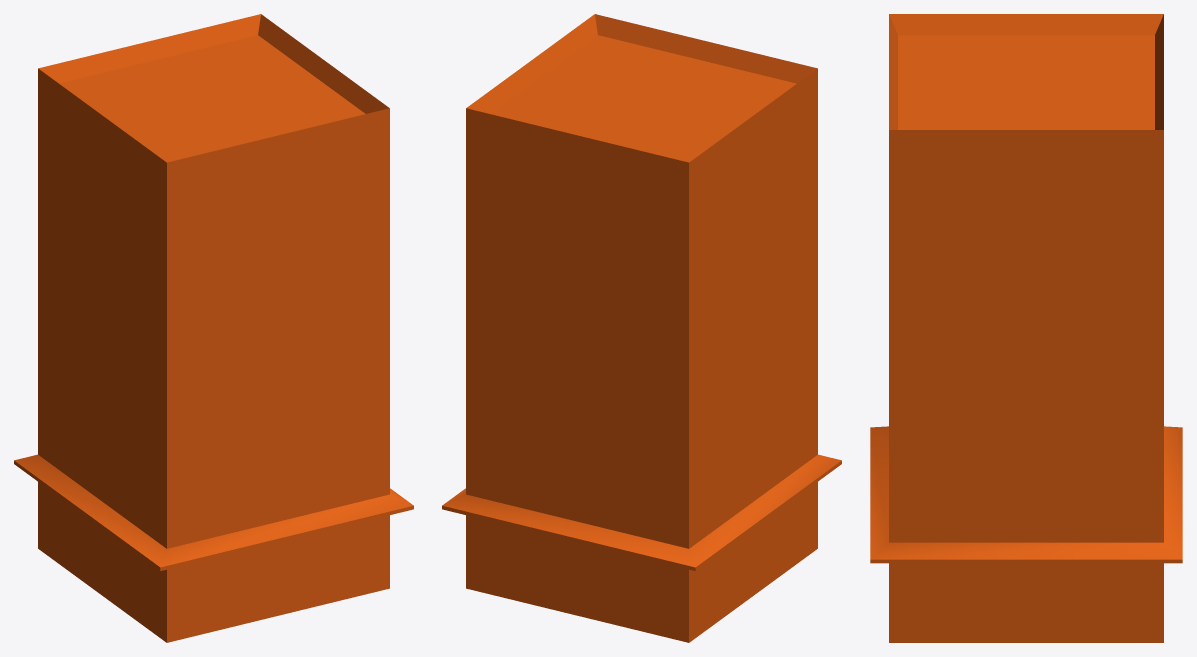
Rendered from cube.029_lev1_lev3.glb.
The picture shows the model from 3 angles, left to right: view 1: azimuth 30°, elevation 25°; view 2: azimuth 150°, elevation 25°; view 3: azimuth 270°, elevation 25°; orthographic projection. The views are drawn at different scales.
Visible parts, largest first — view 1: cube.029_lev1_lev3; view 2: cube.029_lev1_lev3; view 3: cube.029_lev1_lev3.
Boxes of the visible parts, x1,y1,x2,y2 form: cube.029_lev1_lev3: (14,14,413,642); cube.029_lev1_lev3: (442,14,841,642); cube.029_lev1_lev3: (870,14,1182,642).
Bounding box in the file's own units: 4.07 × 7.36 × 4.07.
